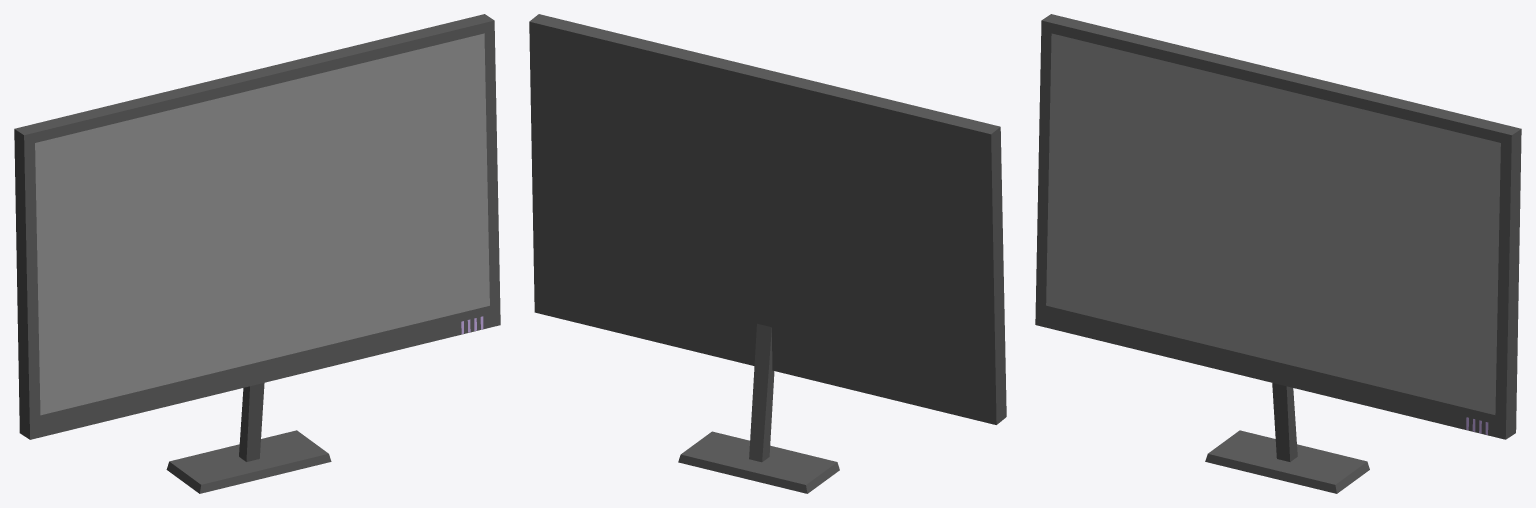
Rendered from Monitor_2.fbx.
3 views of the same model, side by side, from view 1: azimuth 30°, elevation 25°; view 2: azimuth 150°, elevation 25°; view 3: azimuth 330°, elevation 25° (orthographic).
Parts seen in each view (by area): view 1: Monitor_2; view 2: Monitor_2; view 3: Monitor_2.
Part boxes in pixels (bbox=[...]): Monitor_2: bbox=[14, 14, 500, 493]; Monitor_2: bbox=[529, 14, 1006, 493]; Monitor_2: bbox=[1035, 14, 1521, 493].
Bounding box in the file's own units: 89.68 × 11.04 × 72.07.
